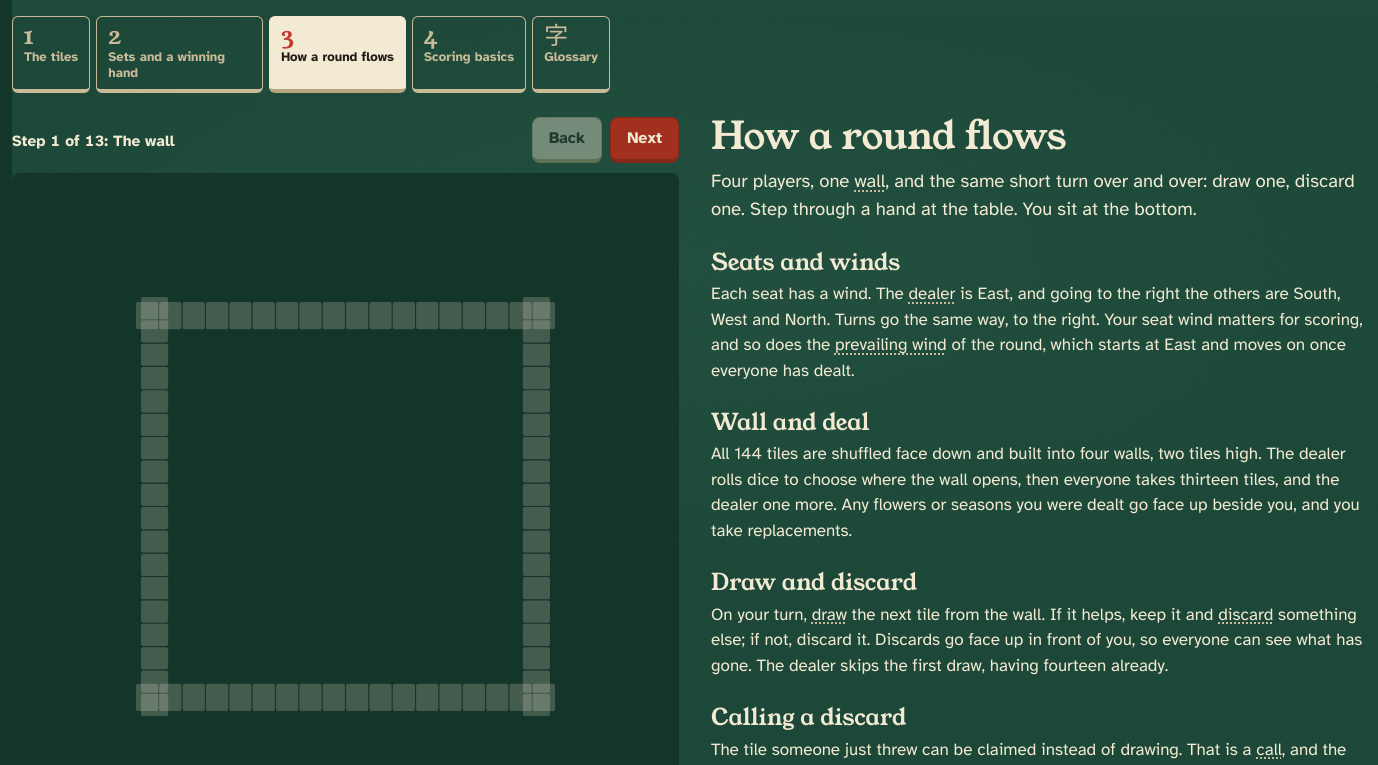
Primer › steps through a round
Expected: the text "Step 1 of 13: The wall" is shown, [12, 131, 175, 150]
Click the button "Next" at (645, 140), box [610, 117, 679, 163]
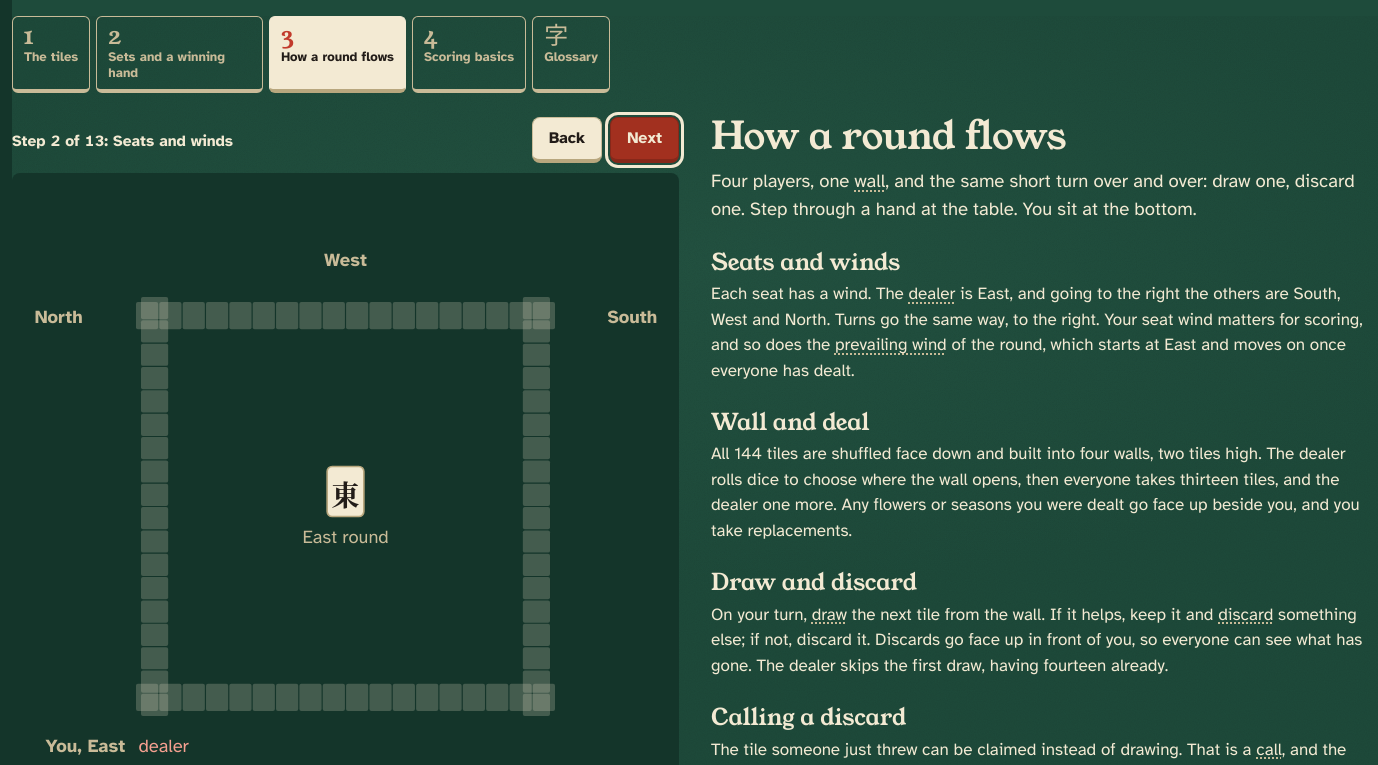
Expected: the text "Step 2 of 13: Seats and winds" is shown, [12, 131, 233, 150]
